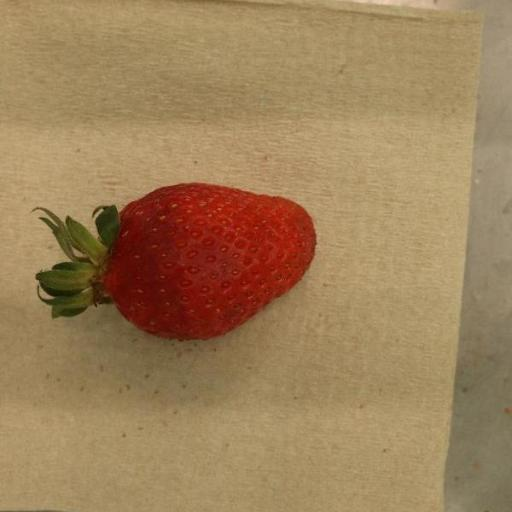Strawberry: (30, 183, 316, 342)
